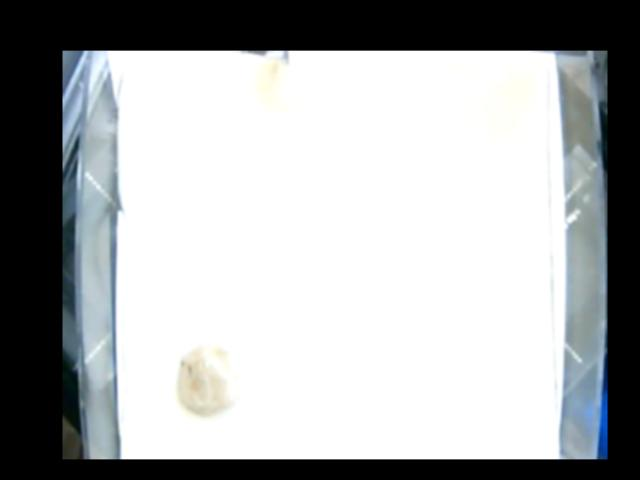Pebble: (178, 342, 239, 417)
